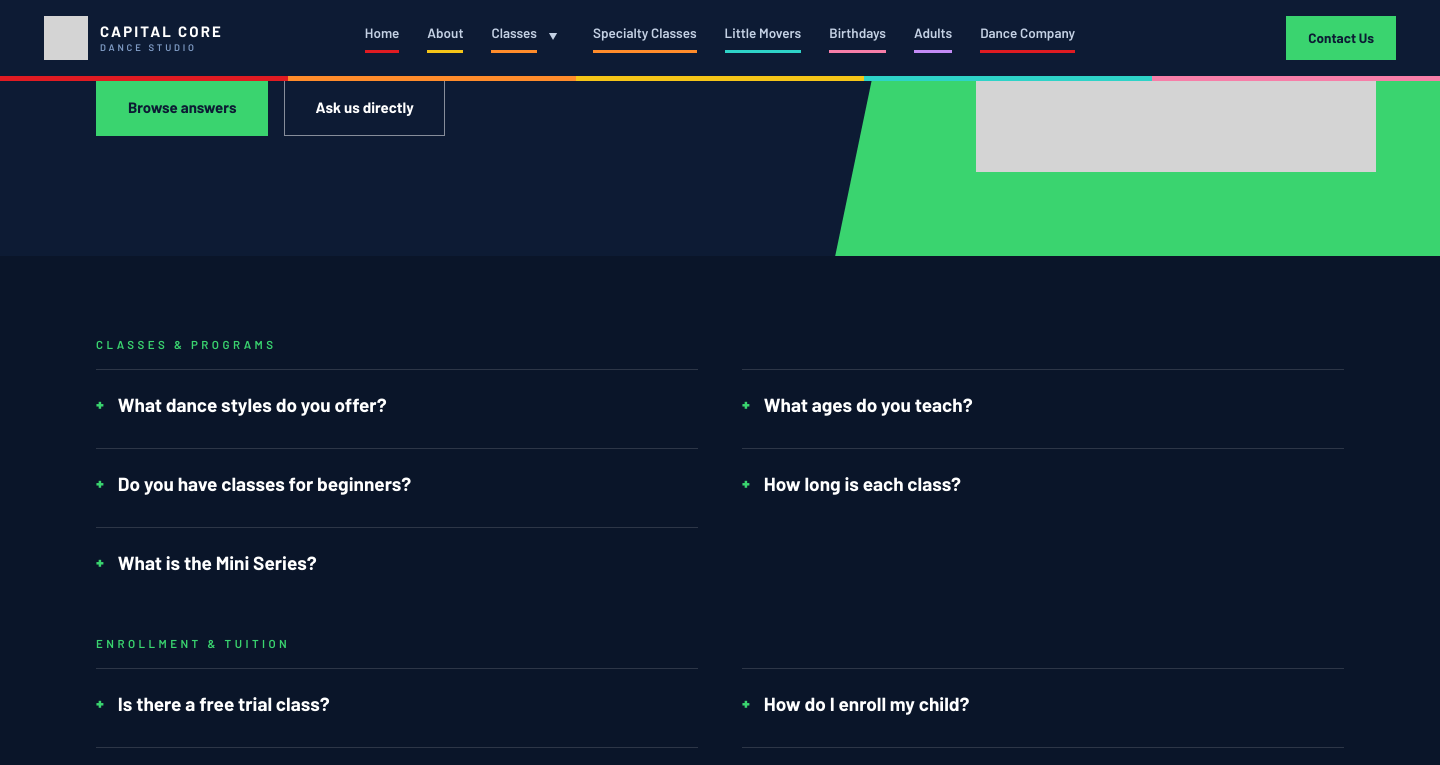
Test: answers start collapsed and open on click
(page scrolled)
Check: the text "ballet, tap, jazz, hip hop, contemporary" is not shown
What coordinates should you click on to do the following:
click the button "+ What dance styles do you offer?"
I would click on:
 (252, 405)
Its box is [96,392,698,418].
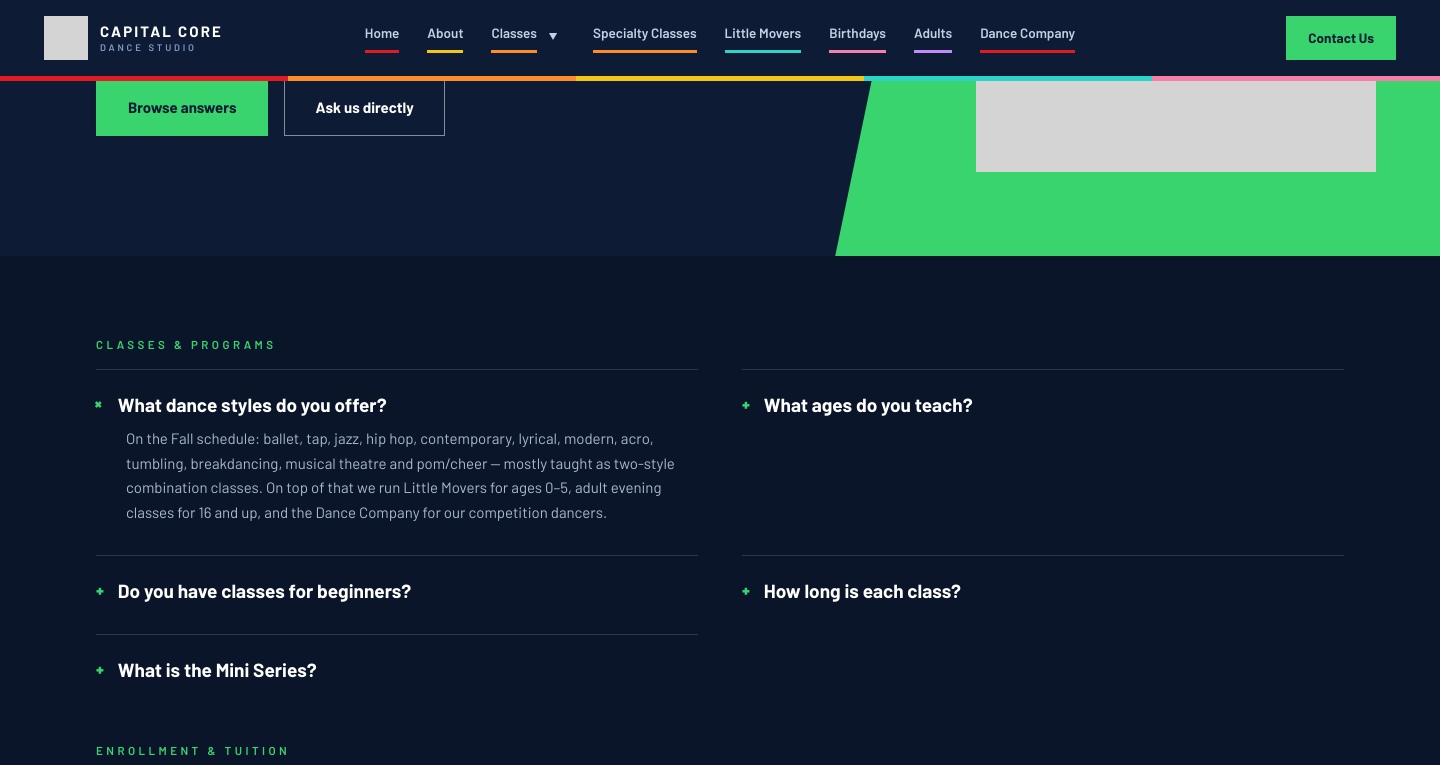
Check: the button "+ What dance styles do you offer?" is expanded
Check: the text "ballet, tap, jazz, hip hop, contemporary" is shown, box [126,429,675,521]
What coordinates should you click on to do the following:
click the button "+ What dance styles do you offer?"
I would click on:
 (252, 405)
Its box is [96,392,698,418].
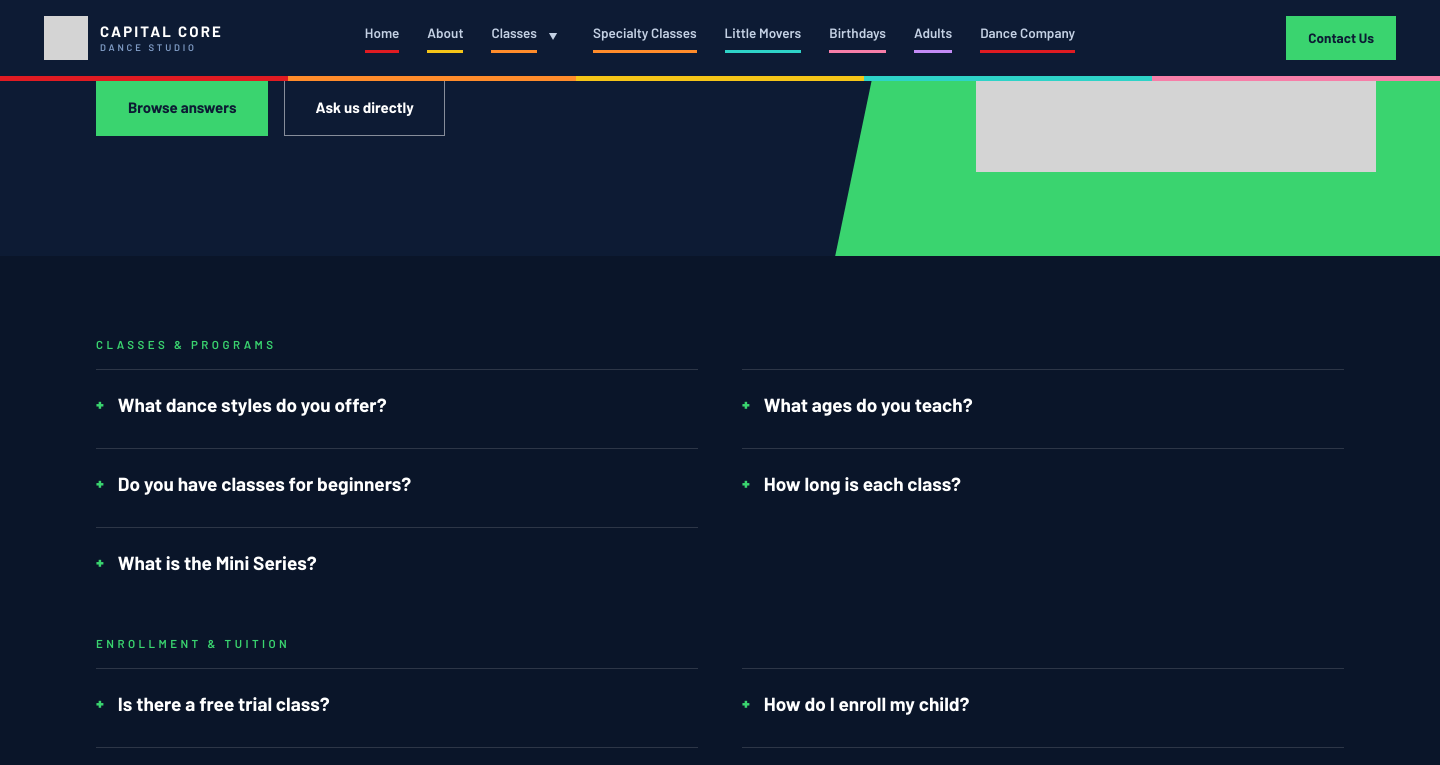
Check: the button "+ What dance styles do you offer?" is collapsed, box [96,392,698,418]
